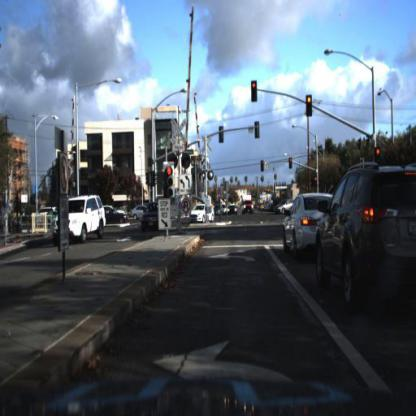car: (313, 158, 415, 325), (282, 192, 336, 260), (51, 189, 109, 245), (53, 189, 106, 242), (281, 190, 317, 255), (141, 200, 165, 233), (188, 201, 215, 226), (140, 199, 160, 231), (106, 205, 131, 225), (104, 210, 128, 224), (277, 196, 293, 215), (242, 201, 256, 219), (241, 200, 255, 216), (227, 202, 238, 222)
pedestrian: (411, 197, 416, 230)
trafficLight-Red: (164, 163, 176, 198), (167, 164, 176, 195), (306, 93, 314, 117), (375, 147, 383, 169), (307, 95, 314, 113), (374, 145, 381, 163), (260, 156, 266, 176), (288, 153, 295, 170), (289, 156, 296, 173), (312, 174, 319, 191), (261, 159, 268, 175), (314, 174, 319, 186)
trafficLight-RedLeft: (251, 80, 259, 102), (251, 79, 258, 98)
